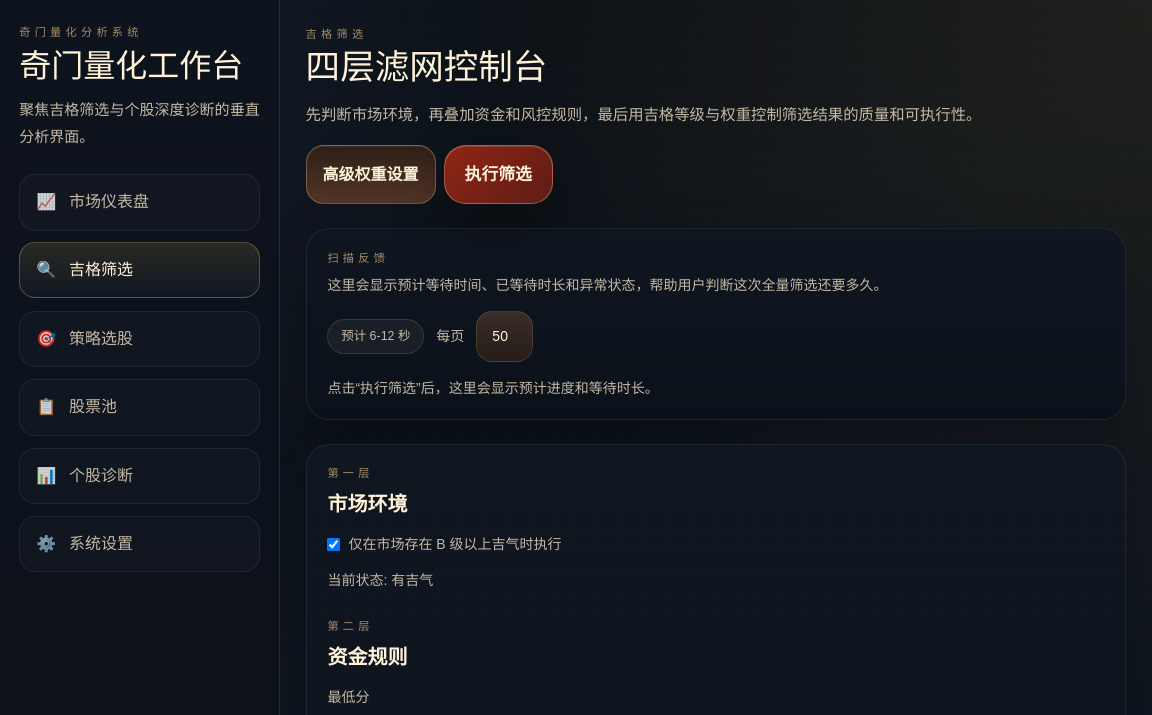
Test: ScreenPageClient › renders the advanced pattern drawer as stacked mobile cards on mobile
Step 1. Click the button "高级权重设置" → point(371, 175), box top-left (306, 145), bottom-right (436, 204)
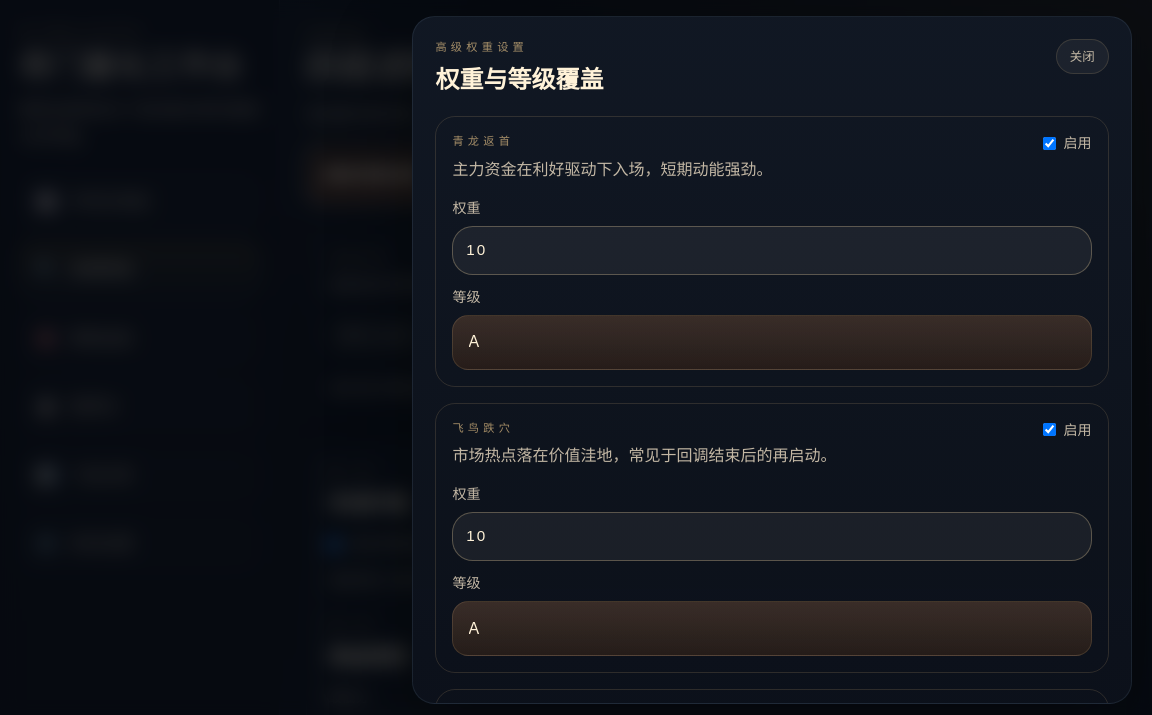
Expected: the 1st checkbox labelled "启用" is shown, top-left (1043, 137), bottom-right (1056, 150)
Expected: the number field labelled "权重" below "主力资金在利好驱动下入场，短期动能强劲。" is shown, top-left (452, 226), bottom-right (1092, 275)
Expected: the dropdown labelled "等级" below "主力资金在利好驱动下入场，短期动能强劲。" is shown, top-left (452, 315), bottom-right (1092, 370)
